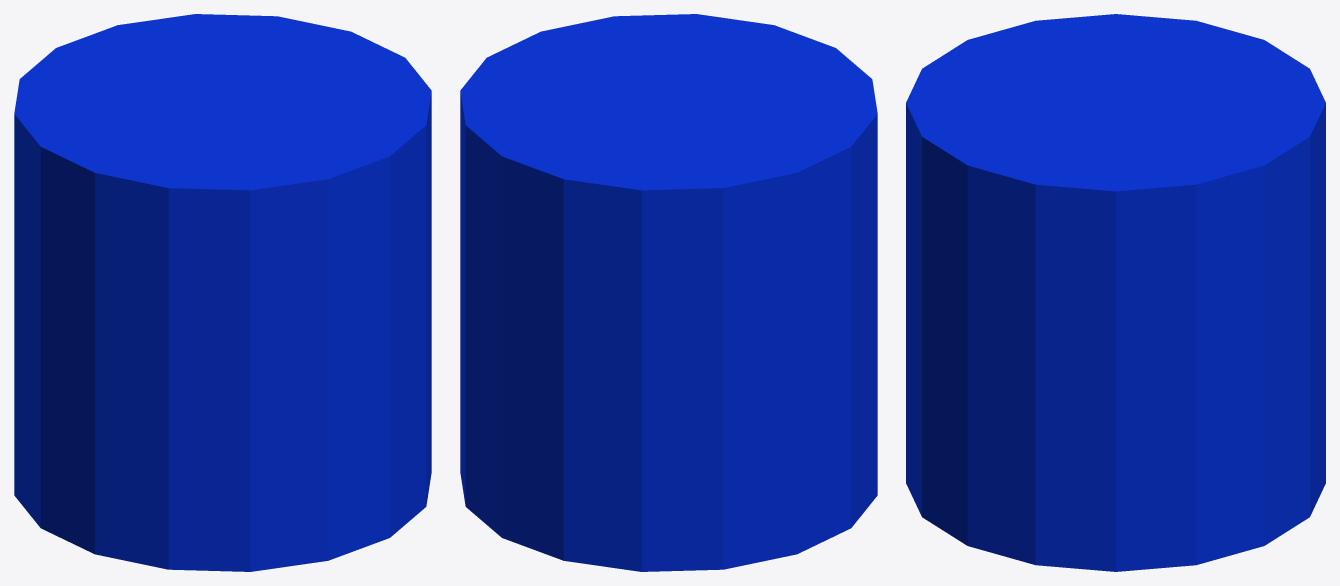
Rendered from blue.gltf.
The picture shows the model from 3 angles, left to right: view 1: azimuth 30°, elevation 25°; view 2: azimuth 150°, elevation 25°; view 3: azimuth 270°, elevation 25°; orthographic projection.
Parts seen in each view (by area): view 1: Cylinder; view 2: Cylinder; view 3: Cylinder.
Part boxes in pixels (x1=…): Cylinder: x1=14, y1=14, x2=431, y2=571; Cylinder: x1=460, y1=14, x2=877, y2=571; Cylinder: x1=906, y1=14, x2=1325, y2=571.
Bounding box in the file's own units: 1 × 1 × 1.
